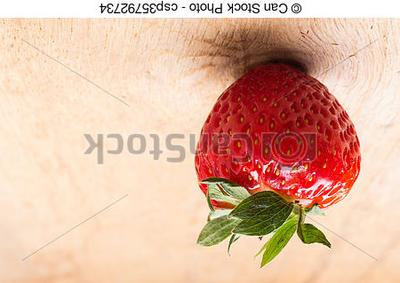strawberry: (0, 0, 400, 283)
